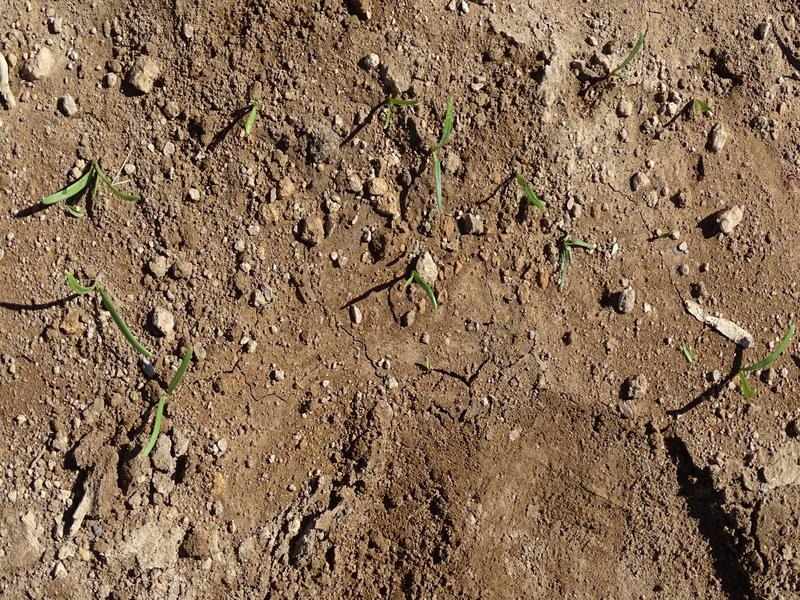Espinaca: (64, 268, 154, 357), (140, 346, 200, 456), (725, 318, 795, 403), (48, 154, 150, 211), (428, 106, 459, 205)
